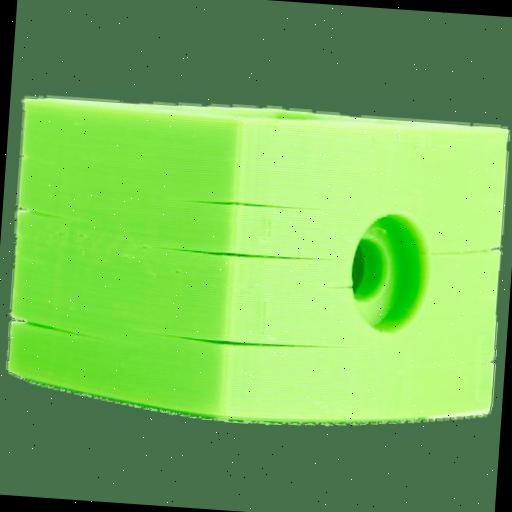cracks: (165, 236, 329, 282), (173, 320, 332, 366), (0, 301, 118, 355), (188, 184, 322, 224), (9, 194, 115, 239), (434, 228, 509, 270), (12, 196, 74, 230), (320, 276, 364, 296)
